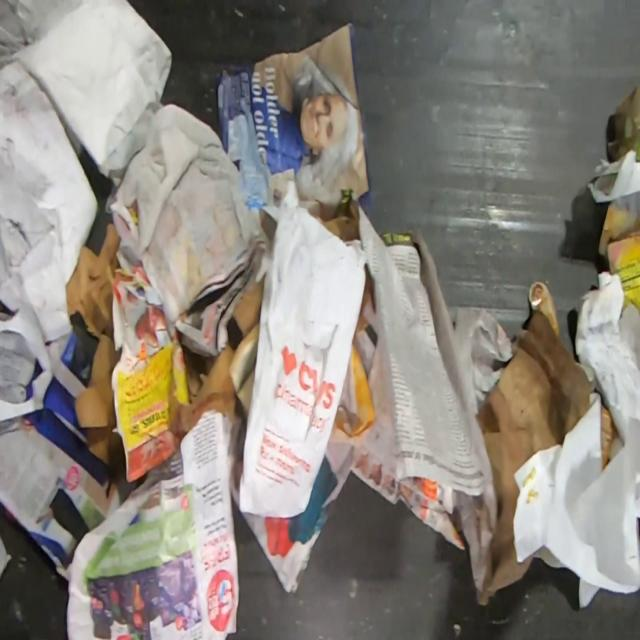cardboard: (596, 190, 640, 314), (527, 281, 558, 335)
